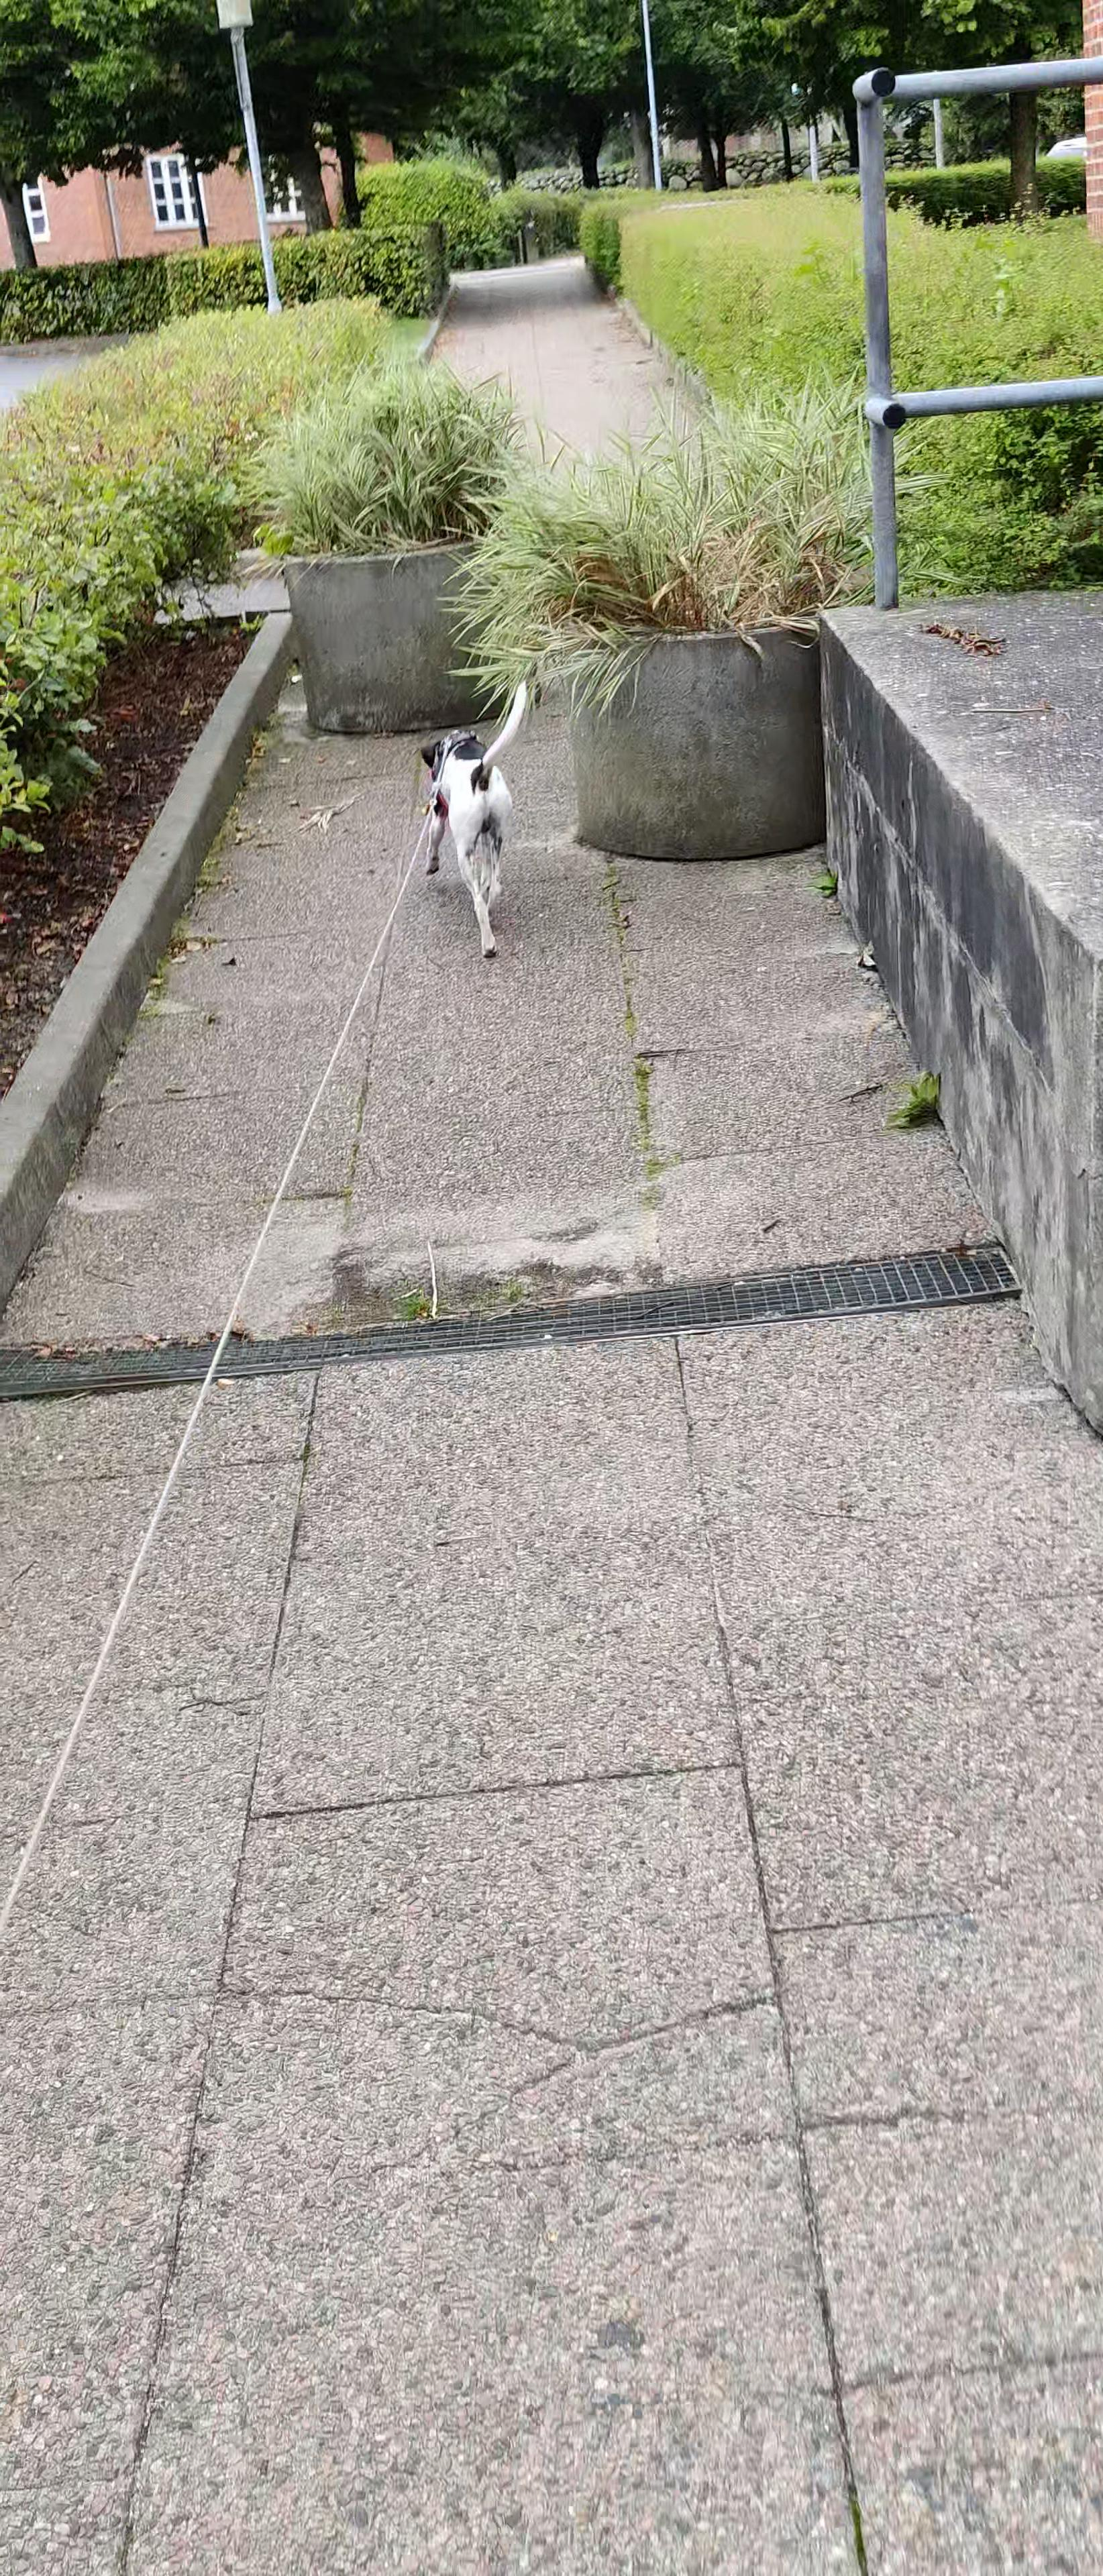Dog: (414, 672, 533, 964)
